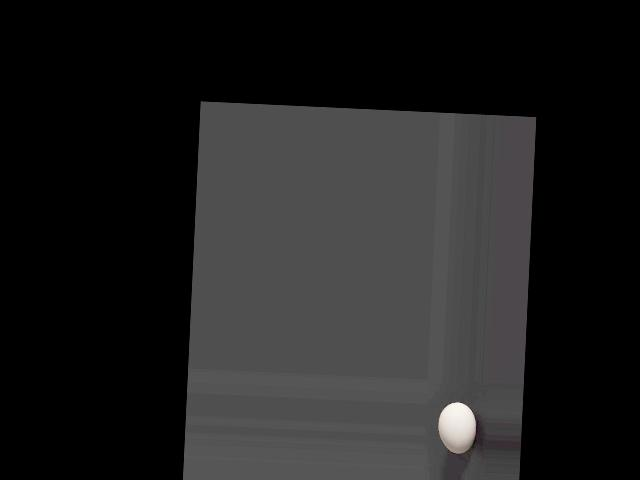egg: (437, 400, 477, 454)
